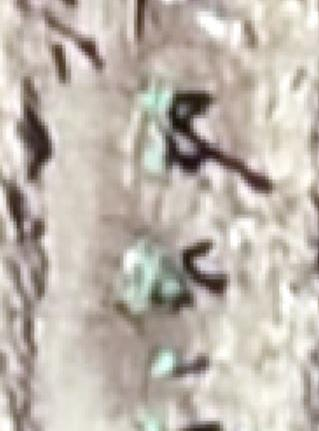cotton: (158, 267, 183, 303), (132, 244, 163, 273), (126, 277, 157, 304), (154, 350, 178, 375), (142, 88, 169, 110), (147, 148, 168, 172)
